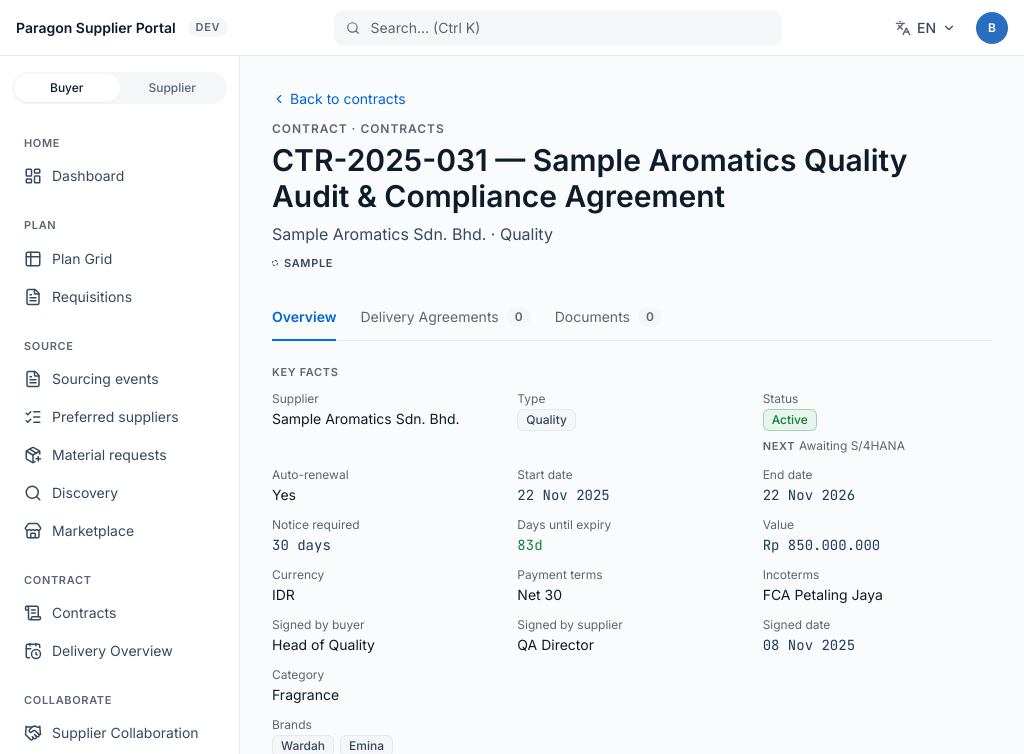
Test: OPS-3 · "Governed — flag over 10%" flags › within tolerance there is no flag — known-absent, beside the chip that promises one
Click the tab "Delivery Agreements 0" at (446, 318), box left=360, top=295, right=531, bottom=341
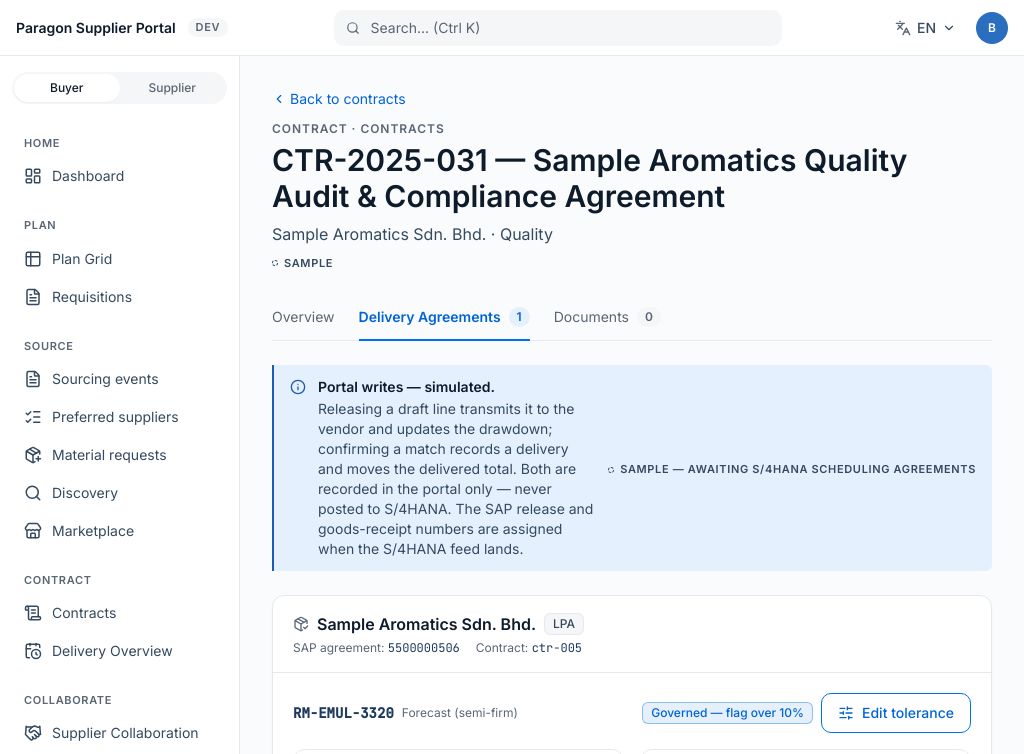
Check: the text "Governed — flag over 10%" is shown, box left=642, top=702, right=813, bottom=724
